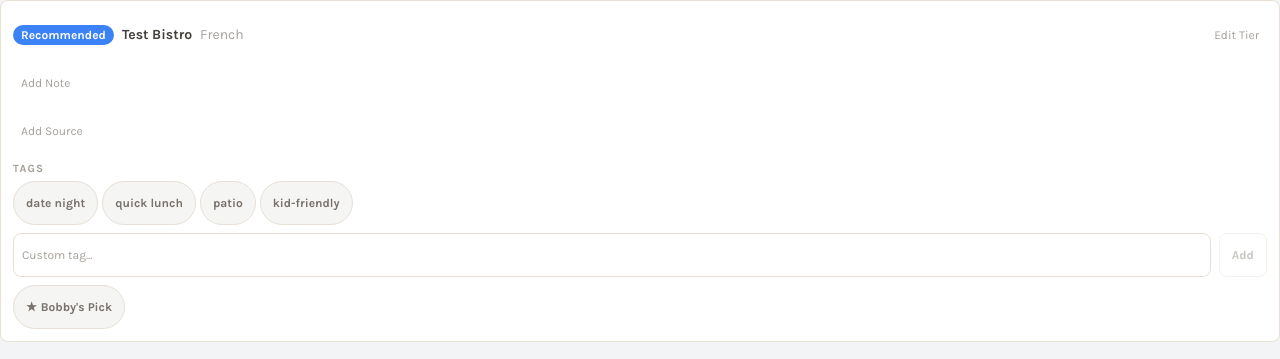
Test: SessionRestaurantCard › clicking "Edit Tier" shows the select with three tier options
Click the button "Edit Tier".
click(1237, 35)  # box [1206,13,1267,57]
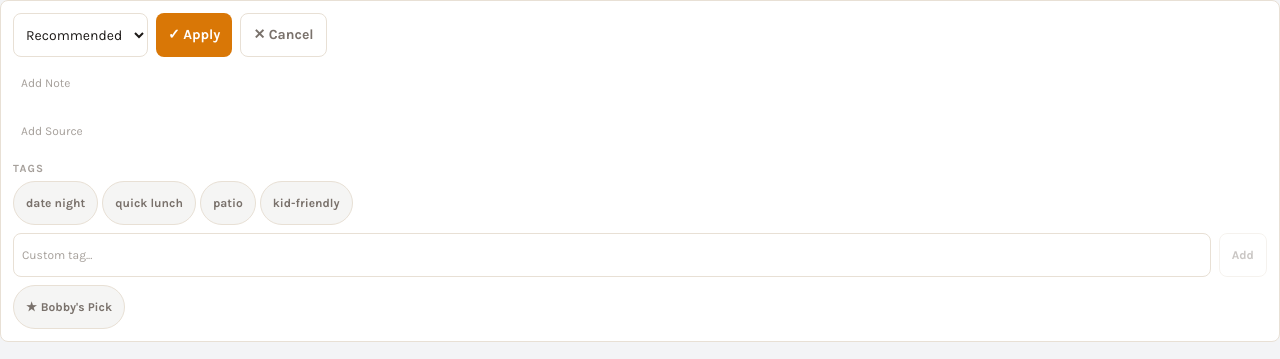
Expected: the dropdown named "select tier" is shown, [13,13,148,57]
